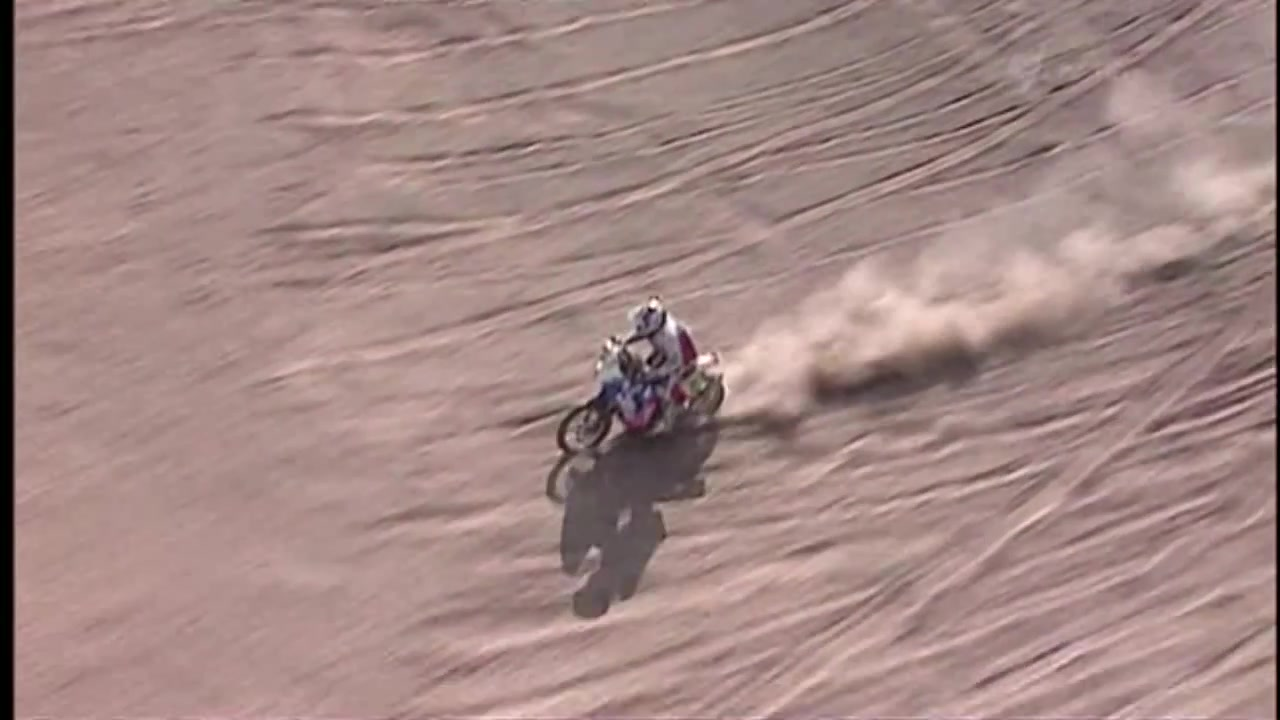motorbike: (550, 346, 728, 455)
